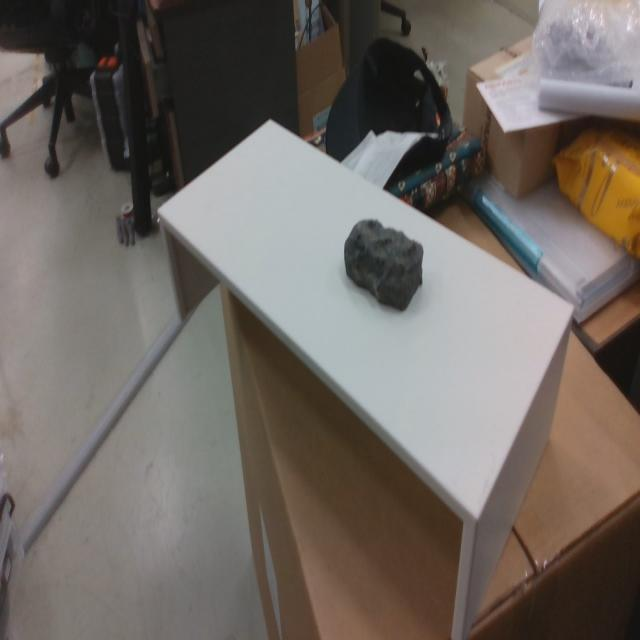stone: (344, 218, 426, 312)
